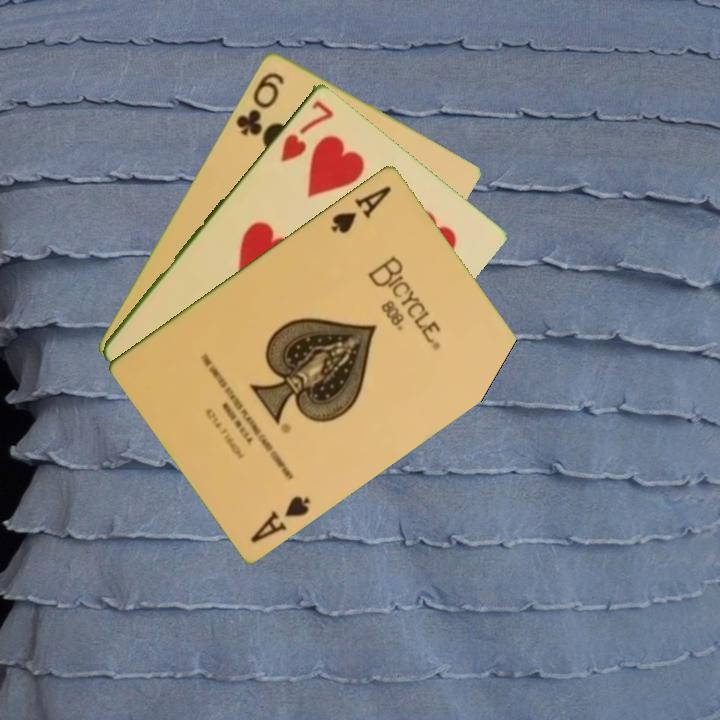6c: (232, 68, 288, 138)
7h: (276, 96, 337, 165)
As: (326, 182, 395, 236), (247, 491, 314, 546)
